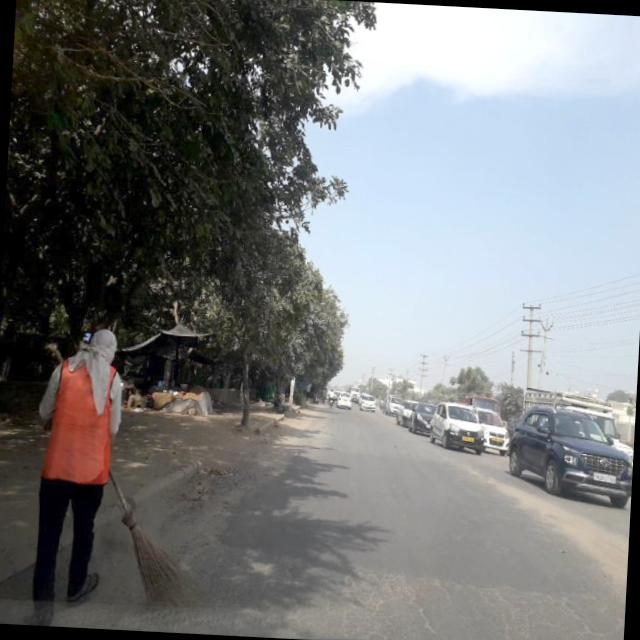crack: (204, 540, 626, 640)
